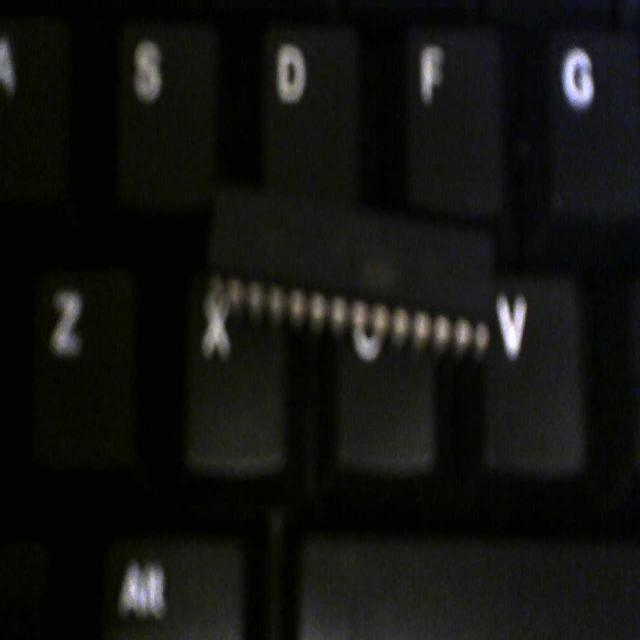atmega: (206, 168, 497, 371)
